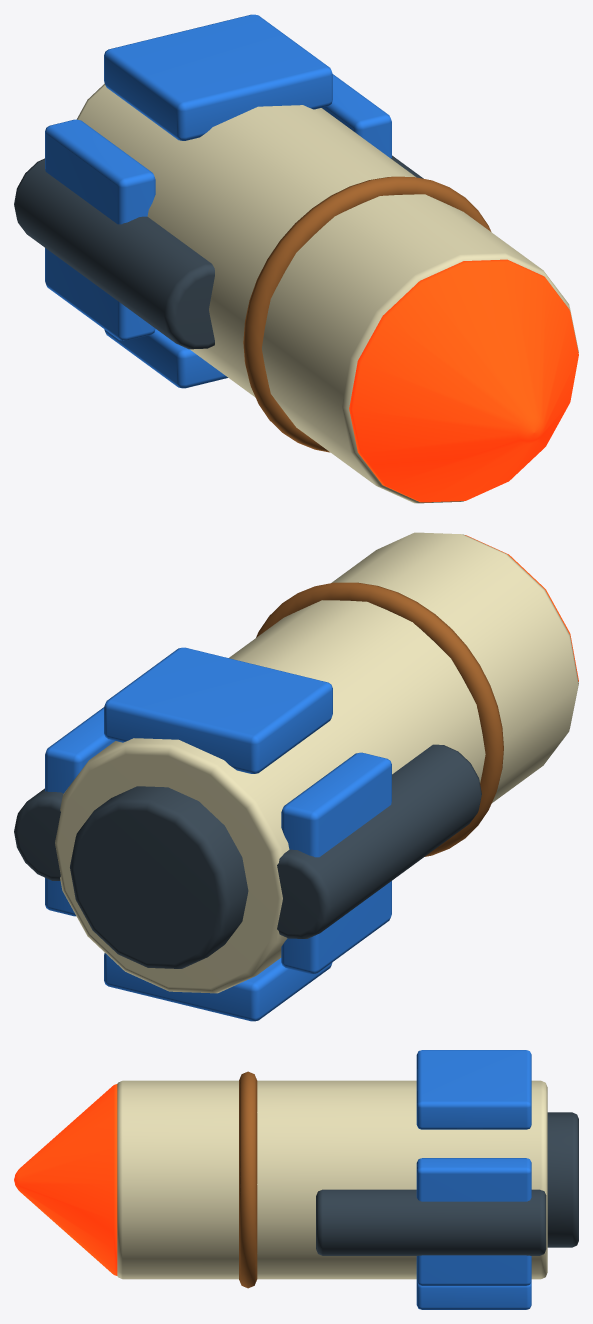
File: SuperTank_Normal.fbx
3 views of the same model, one above another, from view 1: azimuth 30°, elevation 25°; view 2: azimuth 150°, elevation 25°; view 3: azimuth 270°, elevation 25° (orthographic). The views are drawn at different scales.
Visible parts, largest first — view 1: Rocket body.004, Seeker nose.004, Tail stabilizer.017, Booster, Tail stabilizer.018, Identification band.004, Tail stabilizer.019, Tail stabilizer.016; view 2: Rocket body.004, Engine nozzle.004, Tail stabilizer.017, Booster, Tail stabilizer.018, Identification band.004, Tail stabilizer.019, Tail stabilizer.016, Booster.001; view 3: Rocket body.004, Booster.001, Seeker nose.004, Tail stabilizer.017, Tail stabilizer.016, Engine nozzle.004, Identification band.004, Tail stabilizer.019.
Part boxes in pixels (x1,y1,x2,y2): Rocket body.004: [76, 83, 578, 503]; Seeker nose.004: [349, 259, 578, 502]; Tail stabilizer.017: [104, 14, 332, 140]; Booster: [14, 158, 214, 349]; Tail stabilizer.018: [45, 119, 155, 340]; Identification band.004: [243, 176, 491, 452]; Tail stabilizer.019: [104, 329, 227, 388]; Tail stabilizer.016: [321, 74, 391, 158]; Rocket body.004: [55, 532, 578, 993]; Engine nozzle.004: [70, 786, 248, 968]; Tail stabilizer.017: [104, 647, 332, 773]; Booster: [277, 744, 481, 938]; Tail stabilizer.018: [281, 752, 391, 973]; Identification band.004: [256, 582, 503, 856]; Tail stabilizer.019: [104, 953, 332, 1021]; Tail stabilizer.016: [45, 707, 114, 916]; Booster.001: [14, 788, 63, 880]; Rocket body.004: [117, 1080, 547, 1279]; Booster.001: [316, 1189, 546, 1255]; Seeker nose.004: [14, 1084, 117, 1275]; Tail stabilizer.017: [416, 1050, 531, 1129]; Tail stabilizer.016: [416, 1158, 531, 1285]; Engine nozzle.004: [547, 1112, 578, 1247]; Identification band.004: [239, 1071, 257, 1288]; Tail stabilizer.019: [416, 1281, 531, 1309].
Bounding box in the file's own units: 102 × 88 × 216.
